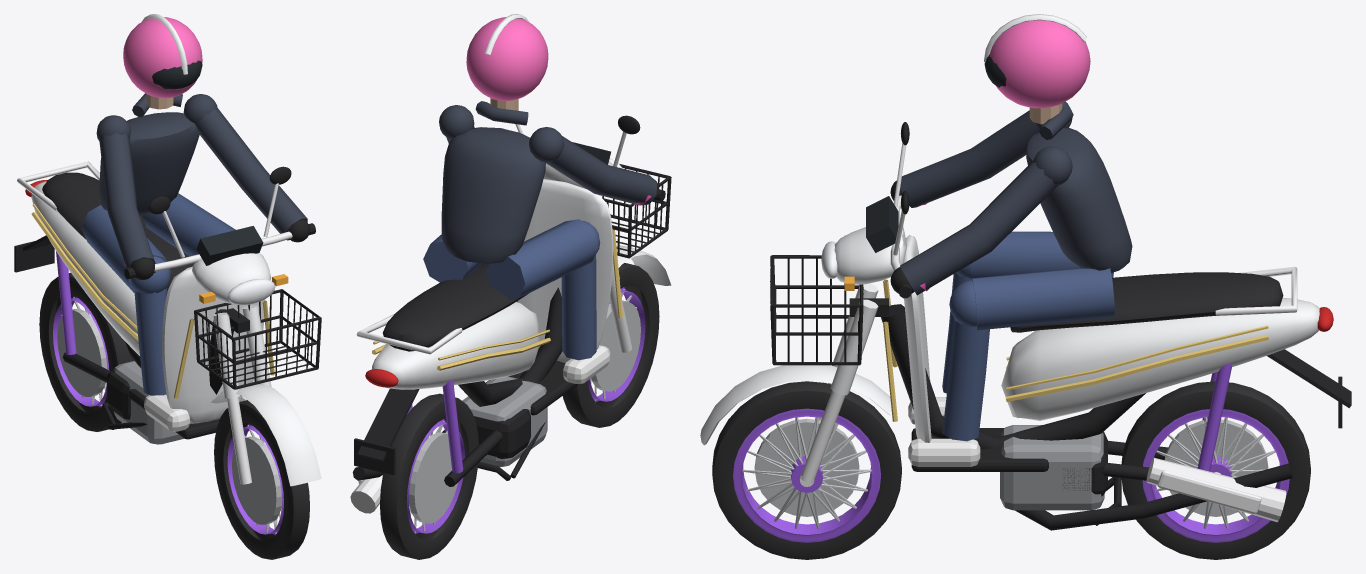
Rendered from soi_rocket.glb.
The picture shows the model from 3 angles, left to right: view 1: azimuth 30°, elevation 25°; view 2: azimuth 150°, elevation 25°; view 3: azimuth 270°, elevation 25°; orthographic projection. The views are drawn at different scales.
Visible parts, largest first — view 1: SoiRocketBody, RiderMesh, WheelFTyre, WheelRTyre, WheelFRims, WheelRRims; view 2: SoiRocketBody, RiderMesh, WheelRTyre, WheelFTyre, WheelRRims, WheelFRims; view 3: SoiRocketBody, RiderMesh, WheelFRims, WheelFTyre, WheelRTyre, WheelRRims.
Boxes of the visible parts, <box> form: SoiRocketBody: <box>14,161,321,486</box>; RiderMesh: <box>81,14,309,431</box>; WheelFTyre: <box>214,400,309,559</box>; WheelRTyre: <box>39,272,134,431</box>; WheelFRims: <box>227,423,283,535</box>; WheelRRims: <box>53,296,109,407</box>; SoiRocketBody: <box>350,115,671,513</box>; RiderMesh: <box>423,14,659,383</box>; WheelRTyre: <box>380,393,478,559</box>; WheelFTyre: <box>563,263,659,427</box>; WheelRRims: <box>406,419,465,534</box>; WheelFRims: <box>588,287,645,402</box>; SoiRocketBody: <box>700,122,1351,530</box>; RiderMesh: <box>890,14,1132,466</box>; WheelFRims: <box>733,408,880,542</box>; WheelFTyre: <box>712,381,901,559</box>; WheelRTyre: <box>1121,381,1310,559</box>; WheelRRims: <box>1142,409,1289,542</box>.
Bounding box in the file's own units: 0.77 × 1.83 × 1.99.
